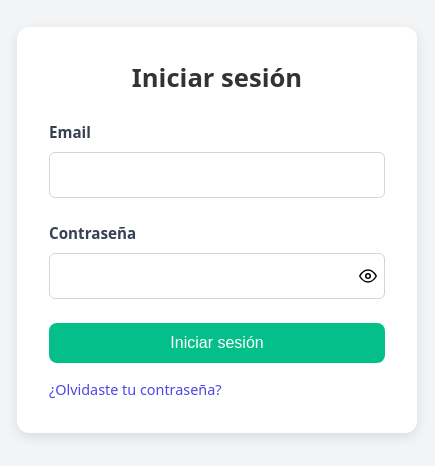
Login Page › muestra error si credenciales inválidas
Type "bad@test.com" into the field labelled "Email".
click(217, 175); type("bad@test.com")  # box [49,152,385,198]
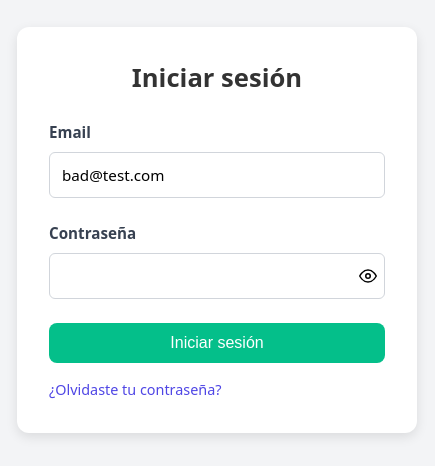
Type "wrong" into the password field labelled "Contraseña".
click(217, 276); type("wrong")  # box [49,253,385,299]
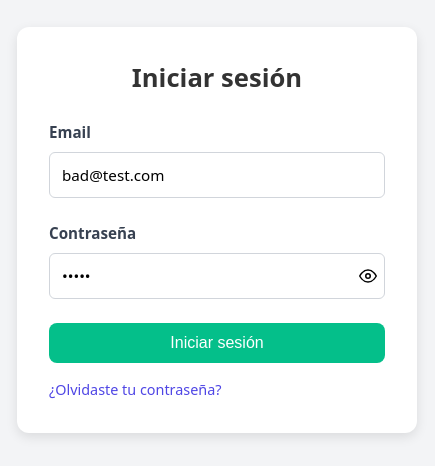
Click the button "Iniciar sesión".
click(217, 343)  # box [49,323,385,363]
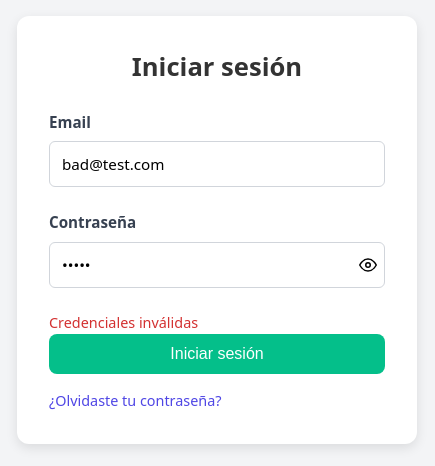
Result: the text "Credenciales inválidas" is shown at [49,313,198,332]
